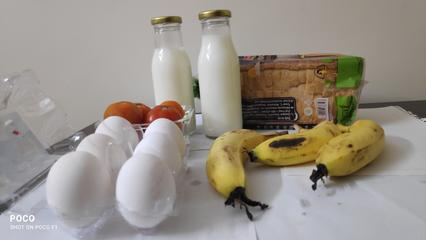banana: (260, 116, 392, 184), (212, 121, 254, 204)
bread: (234, 46, 368, 133)
eggs: (46, 118, 183, 233)
milk: (145, 9, 246, 127)
tomato: (104, 95, 196, 127)
